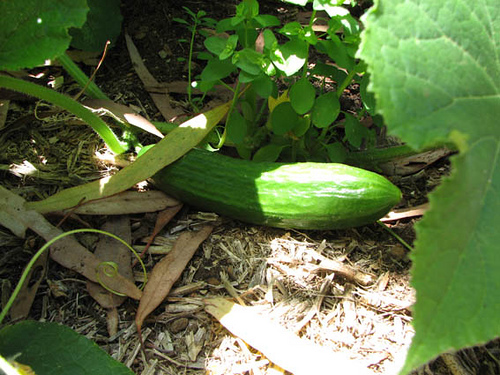cucumber: (135, 146, 405, 241)
